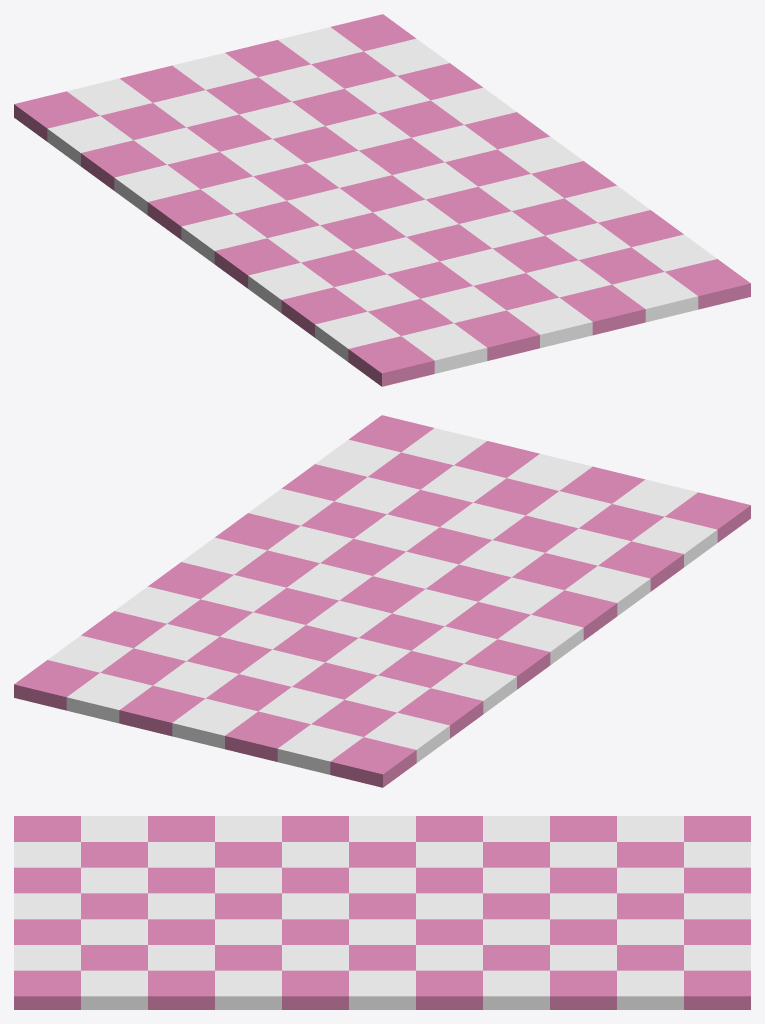
File: geo_FloorPiece.fbx
3 views of the same model, one above another, from view 1: azimuth 30°, elevation 25°; view 2: azimuth 150°, elevation 25°; view 3: azimuth 270°, elevation 25° (orthographic).
Parts seen in each view (by area): view 1: FloorModule; view 2: FloorModule; view 3: FloorModule.
Part boxes in pixels (box(x1,y1,x2,y2)): FloorModule: box(14, 14, 750, 386); FloorModule: box(14, 415, 750, 787); FloorModule: box(14, 816, 750, 1009).
Size of the model in its own units: 9028 by 313 by 15588.
